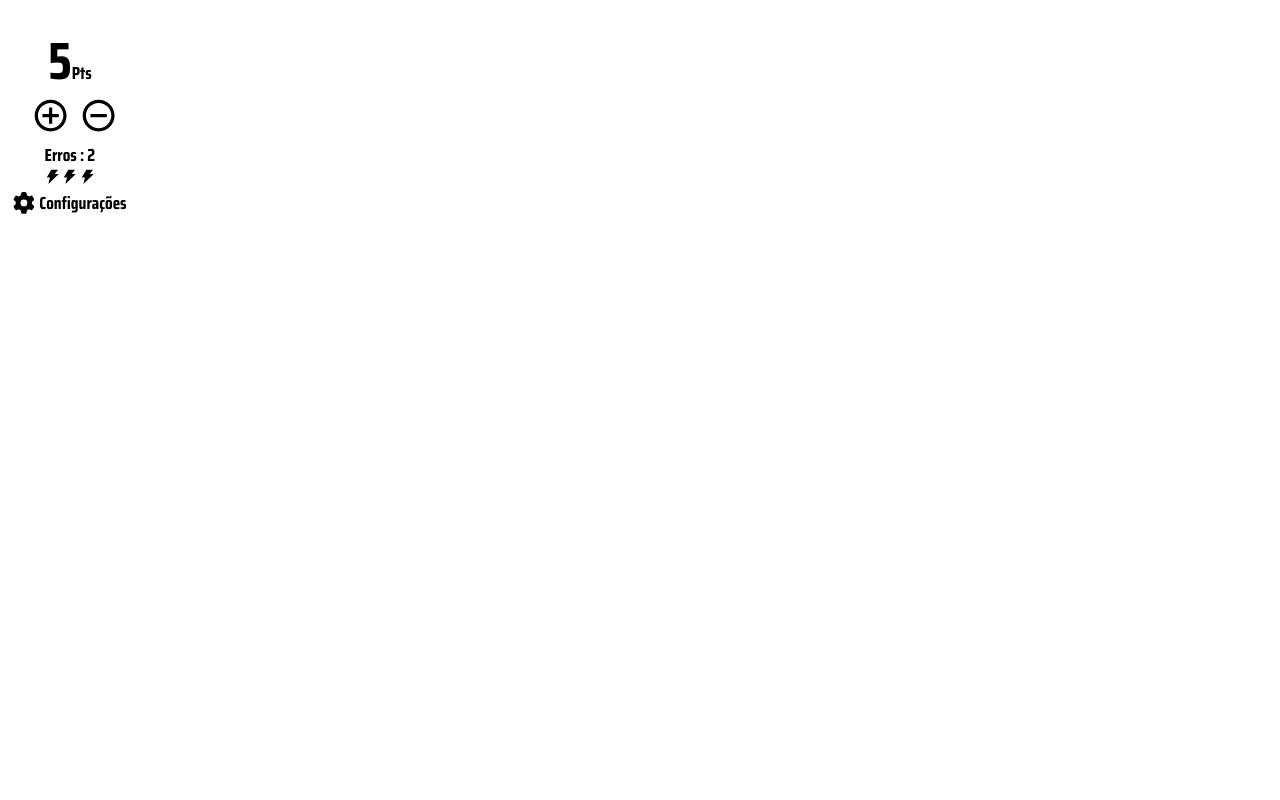
Test: CountCard Config › relatório de erros deve listar tentativas
Click the button "Erros : 2".
click(70, 155)  # box x1=45 y1=142 x2=95 y2=168
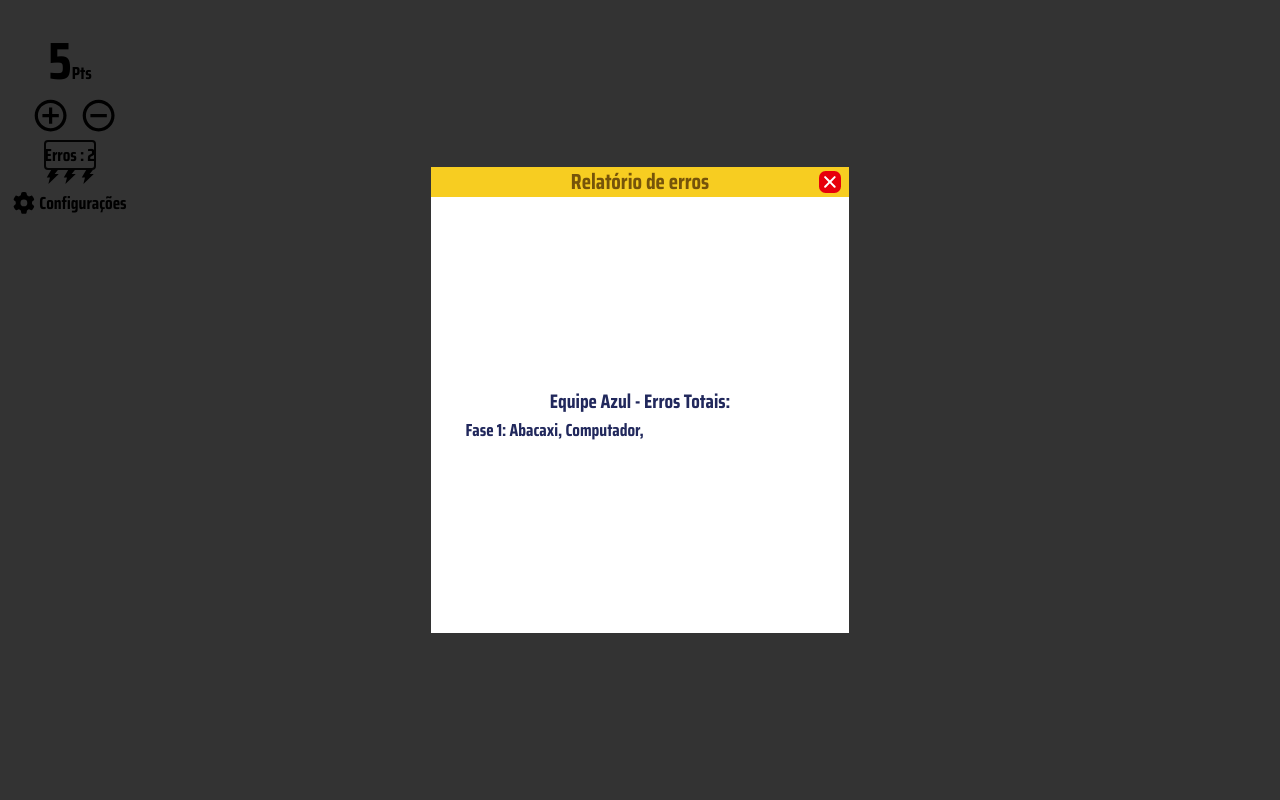
Now the text "Fase 1: Abacaxi, Computador," is shown, box x1=466 y1=417 x2=644 y2=444
